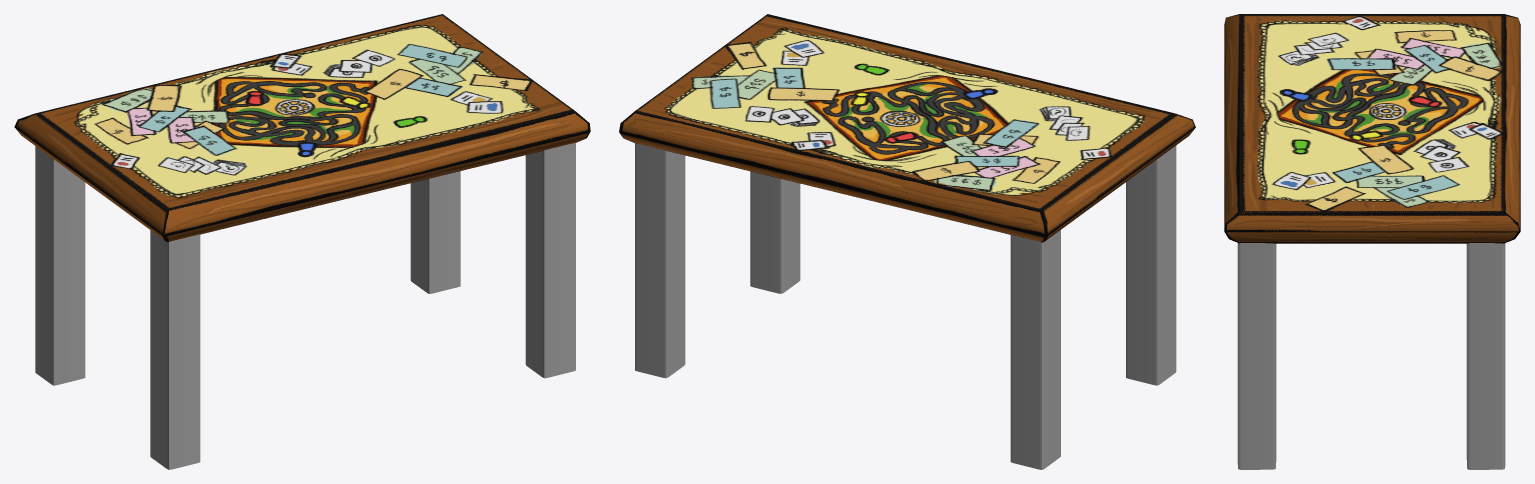
The model's file is Table_With_Tabletop.fbx.
3 renders of one model, left to right at view 1: azimuth 30°, elevation 25°; view 2: azimuth 150°, elevation 25°; view 3: azimuth 270°, elevation 25°, orthographic.
Parts seen in each view (by area): view 1: pCube2, pasted__pasted__pCube1, pasted__pCube1, pasted__pCube2, pCube1; view 2: pCube2, pasted__pCube2, pCube1, pasted__pasted__pCube1, pasted__pCube1; view 3: pCube2, pasted__pCube1, pCube1.
Boxes of the visible parts, left/top/right/bottom form: pCube2: left=14, top=14, right=590, bottom=242; pasted__pasted__pCube1: left=150, top=230, right=200, bottom=469; pasted__pCube1: left=525, top=142, right=575, bottom=378; pasted__pCube2: left=35, top=146, right=85, bottom=385; pCube1: left=410, top=171, right=460, bottom=293; pCube2: left=619, top=14, right=1195, bottom=242; pasted__pCube2: left=1010, top=230, right=1060, bottom=469; pCube1: left=635, top=143, right=685, bottom=378; pasted__pasted__pCube1: left=1126, top=145, right=1176, bottom=385; pasted__pCube1: left=750, top=171, right=800, bottom=293; pCube2: left=1224, top=14, right=1520, bottom=243; pasted__pCube1: left=1237, top=243, right=1276, bottom=469; pCube1: left=1466, top=243, right=1505, bottom=469.
Size of the model in its own units: 8.05 by 4.66 by 4.85.
